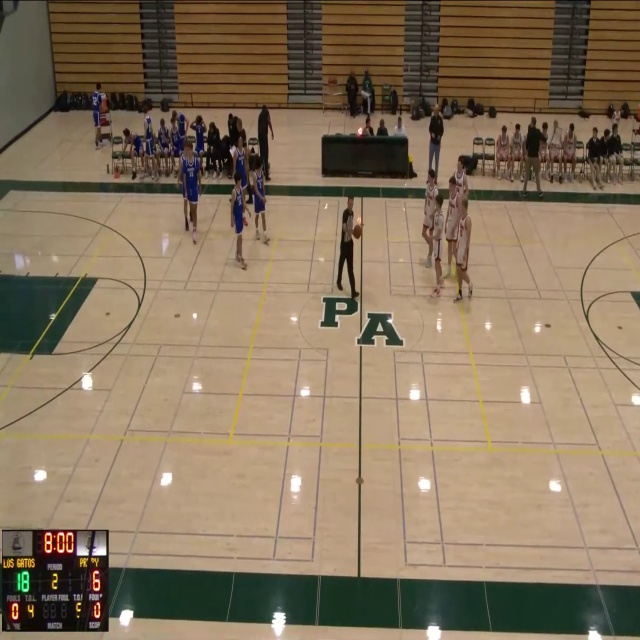Basketball: (352, 224, 362, 239)
